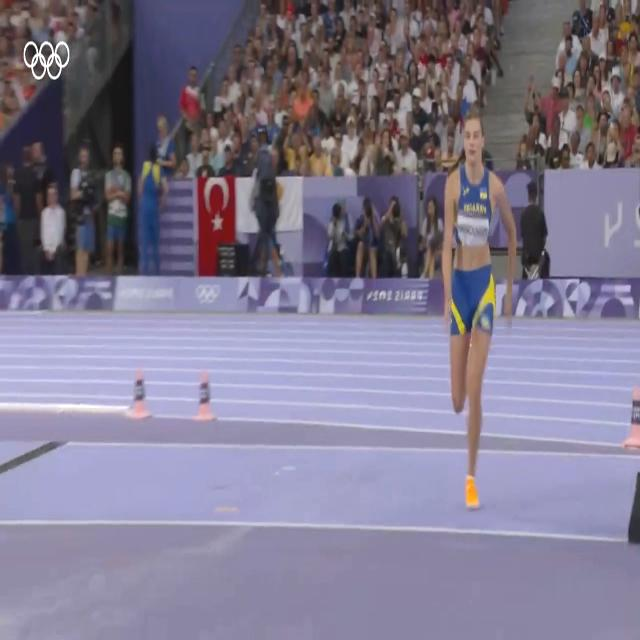run: (441, 108, 517, 511)
